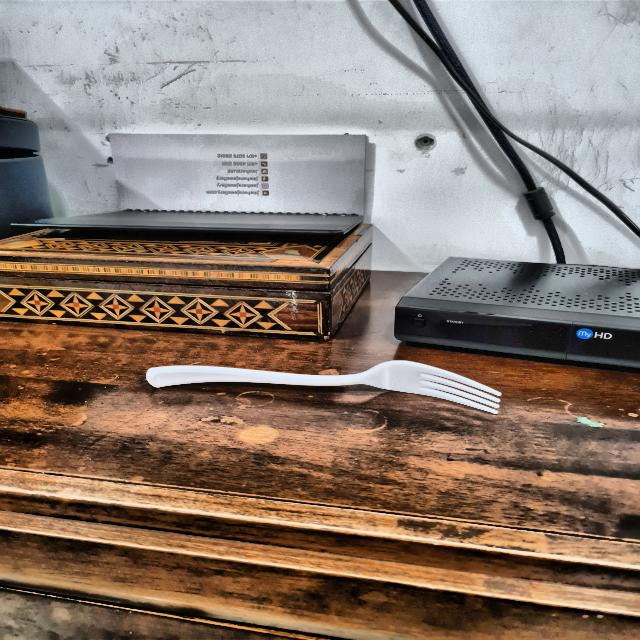plastic utensil: (148, 359, 511, 416)
